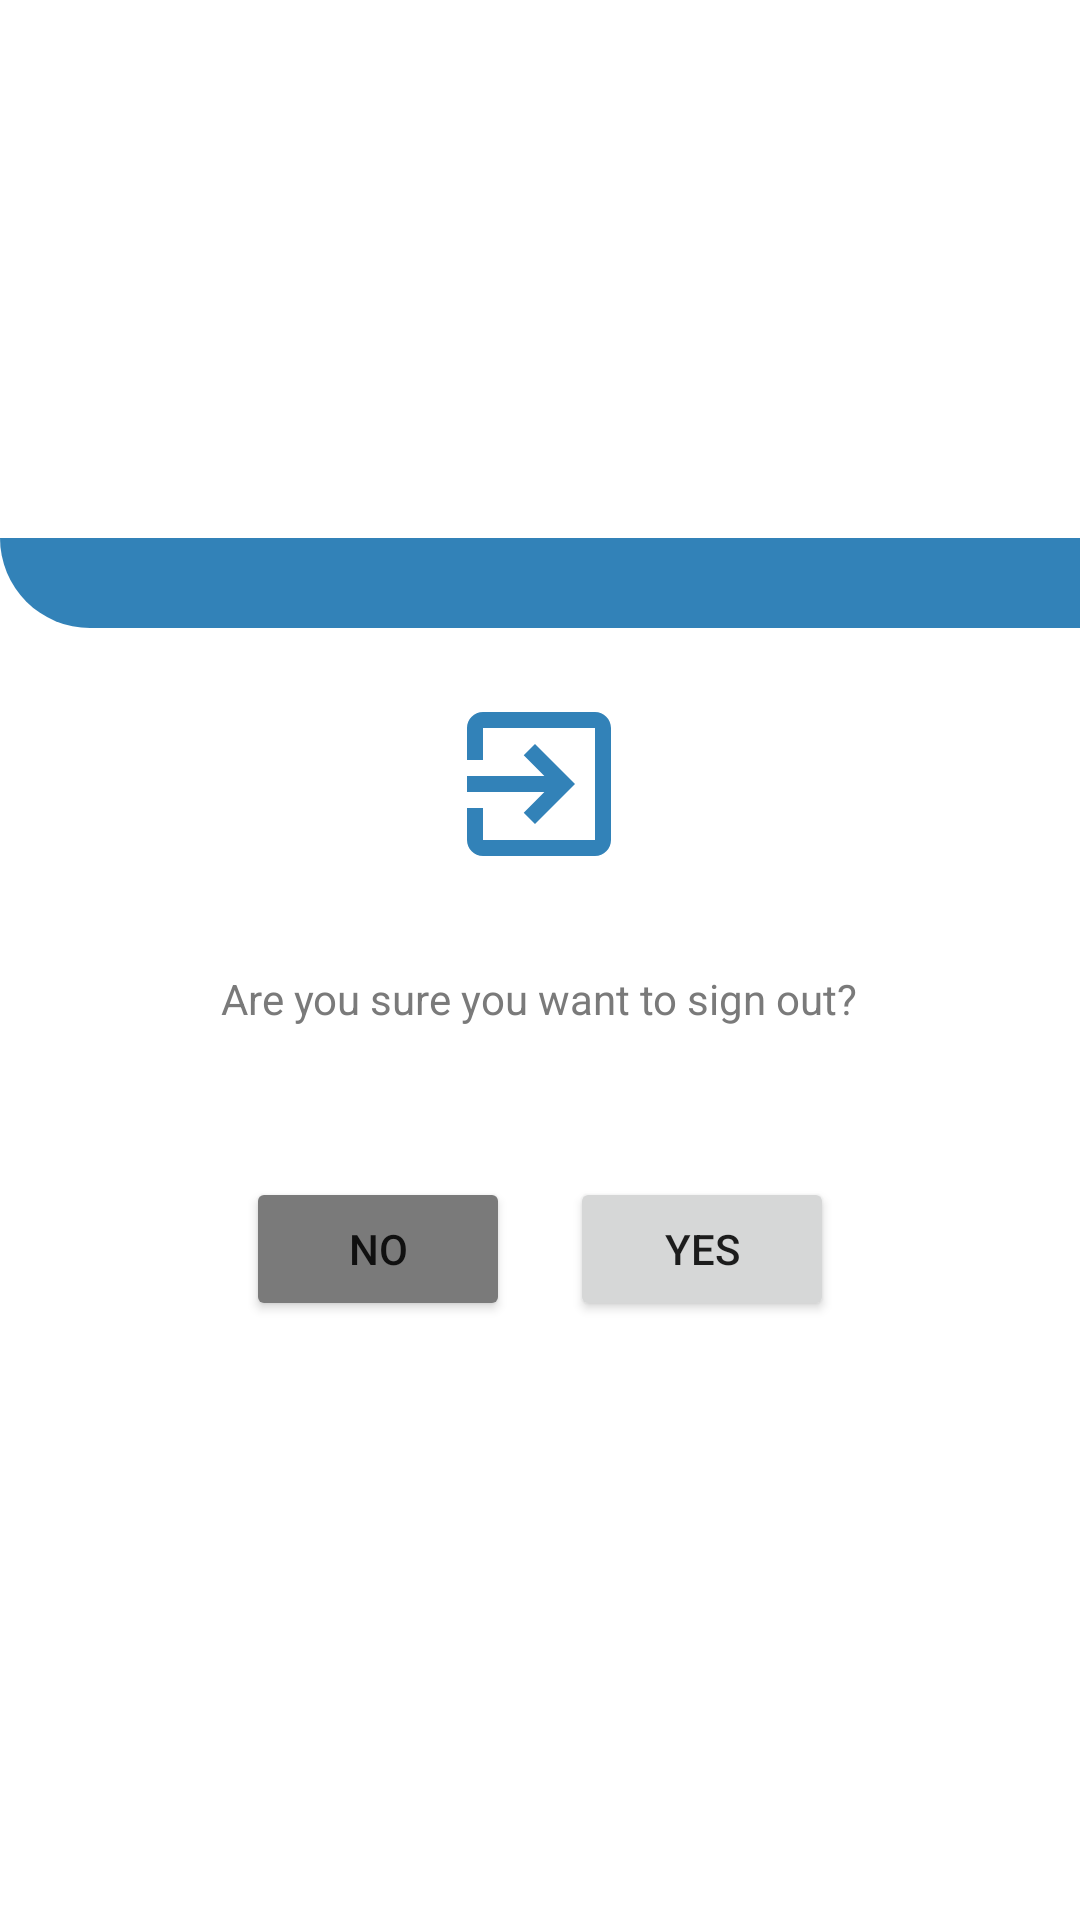

Icon click points for this 1080px x 1920px phone screenshot, format [x,y]:
exit to app: [539,784]
